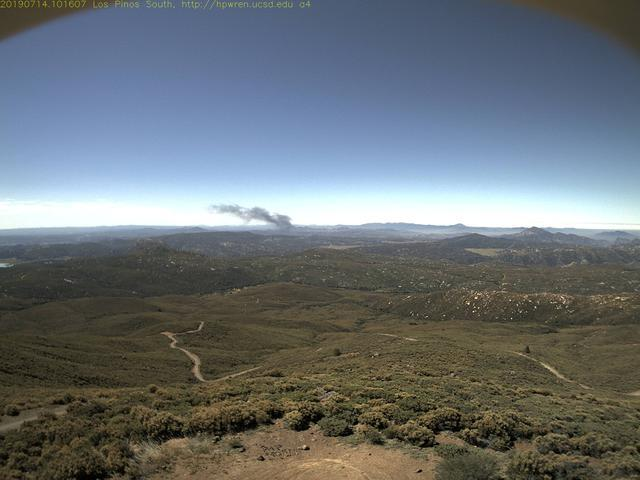smoke: (210, 198, 299, 235)
